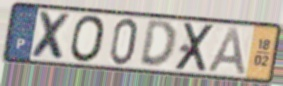0: (107, 17, 140, 68)
A: (206, 26, 249, 77)
D: (137, 19, 178, 71)
O: (69, 13, 107, 64)
X: (172, 21, 218, 74), (29, 9, 74, 63)
